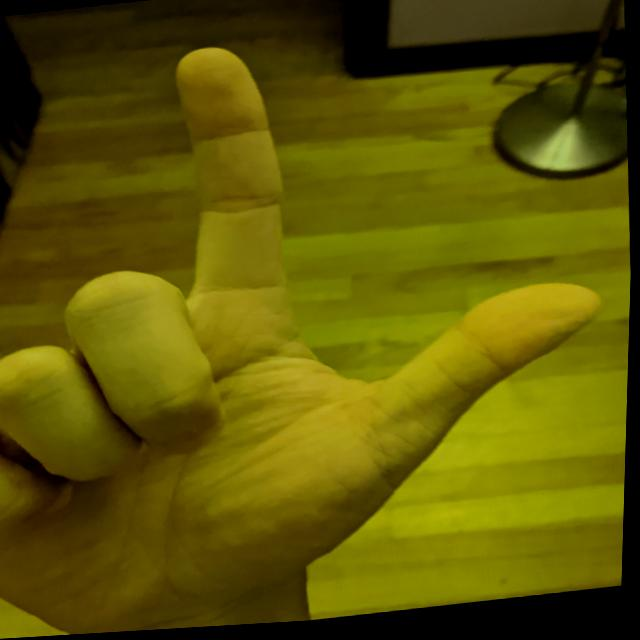L: (0, 0, 638, 639)
